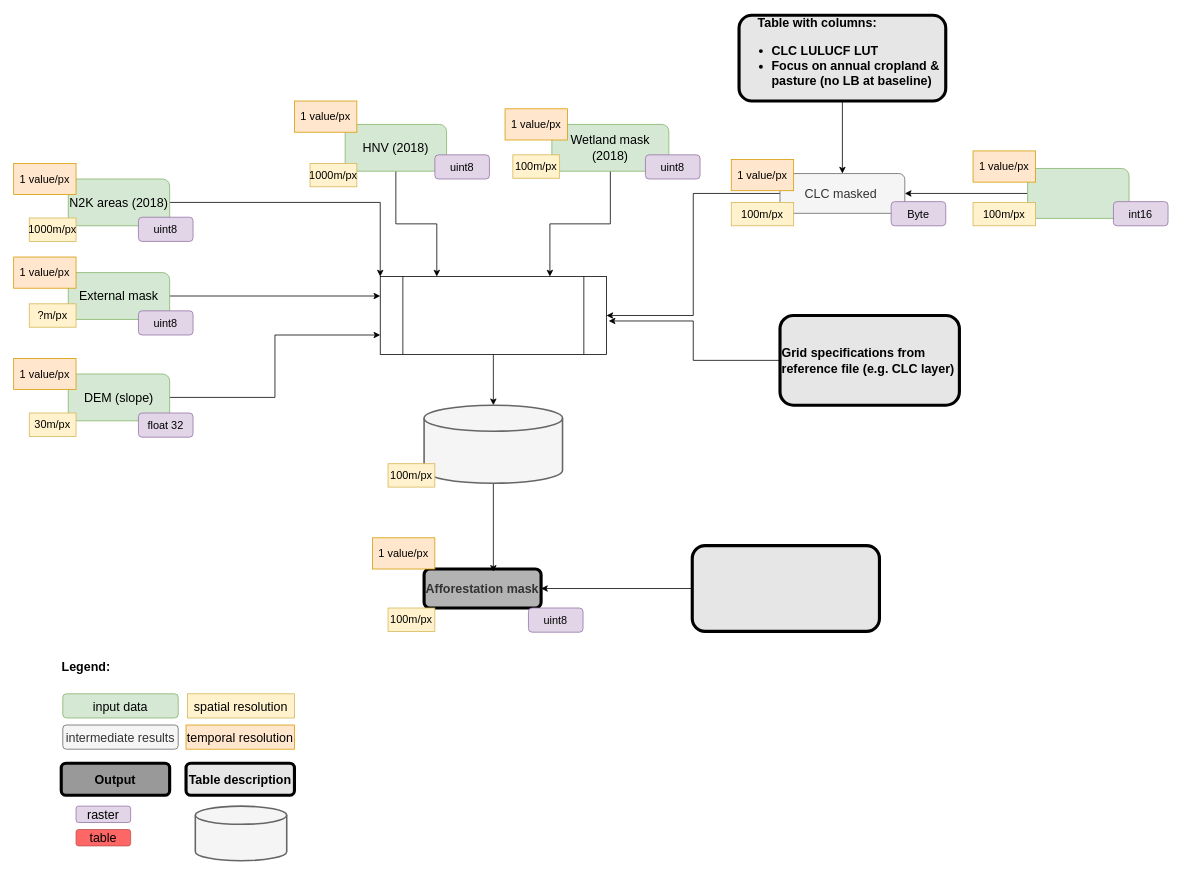
This 1182x874 diagram has some shape labels left out. Here are the shapes that lost their labels. From the top down, the centre of each, then its label:
the point at 1078,193: CLC ACC (2018)
the point at 492,315: Resampling & Clipping
the point at 493,444: Resampled layers
the point at 785,588: Configuration table NUTS ID Slope threshold (max 87.5%)
the point at 240,833: Datacube Multi rasters
